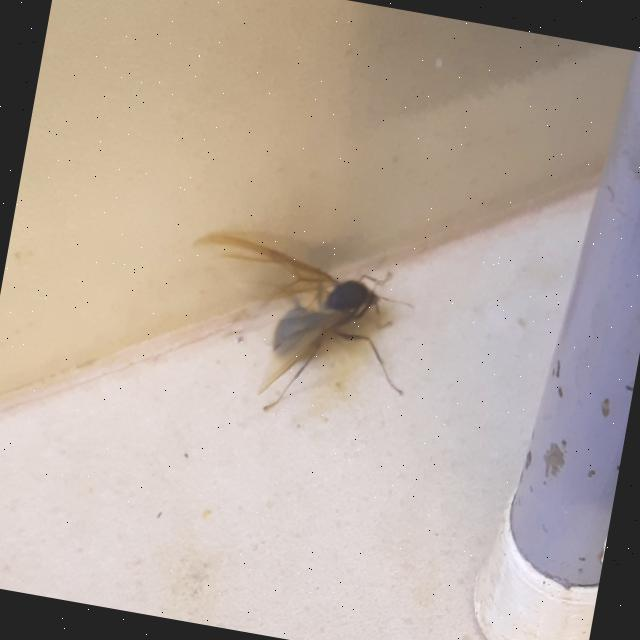Alive-Male-Alate: (167, 229, 426, 435)
